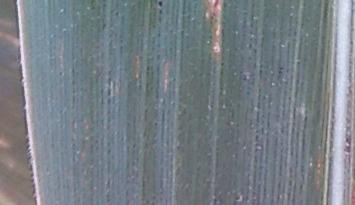tarspot: (155, 1, 165, 9), (278, 65, 284, 73)
